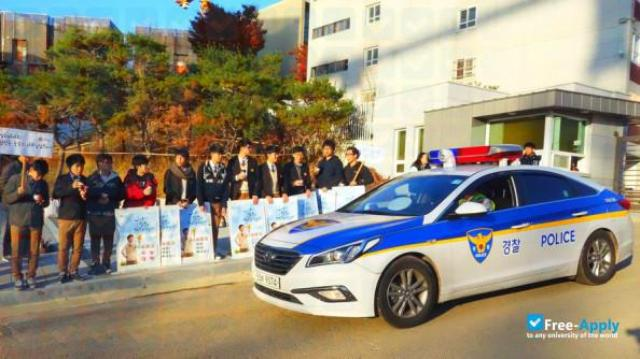police_car: (250, 142, 636, 321)
